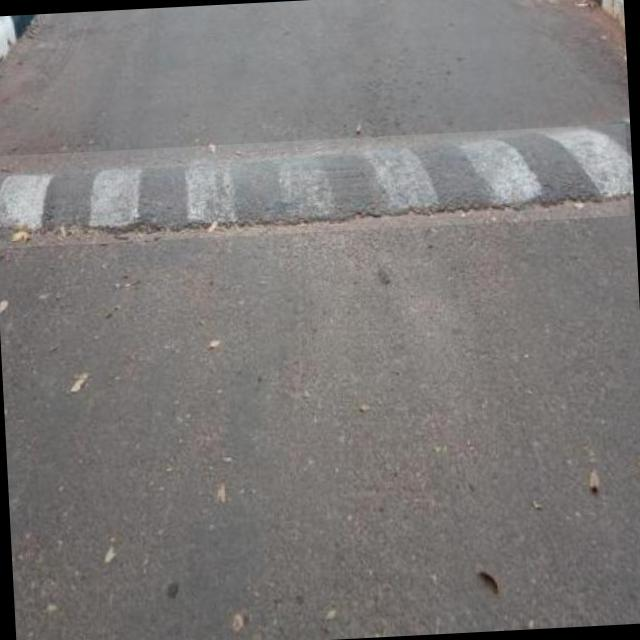bump: (0, 124, 630, 249)
